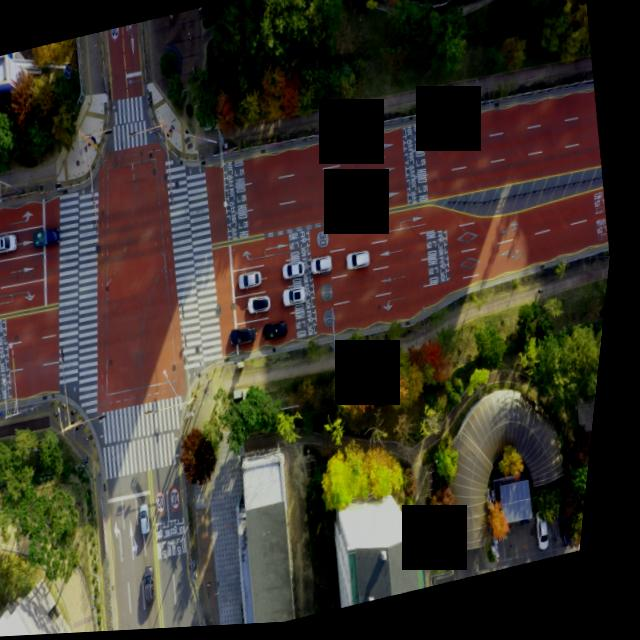car: (544, 517, 565, 557), (149, 567, 169, 606), (348, 252, 377, 275), (146, 505, 165, 538), (242, 272, 268, 295), (235, 329, 263, 350), (251, 297, 277, 319), (313, 257, 339, 279), (269, 323, 296, 344), (287, 289, 311, 311), (285, 262, 310, 283), (0, 232, 21, 255)
small_truck: (33, 223, 67, 253)
